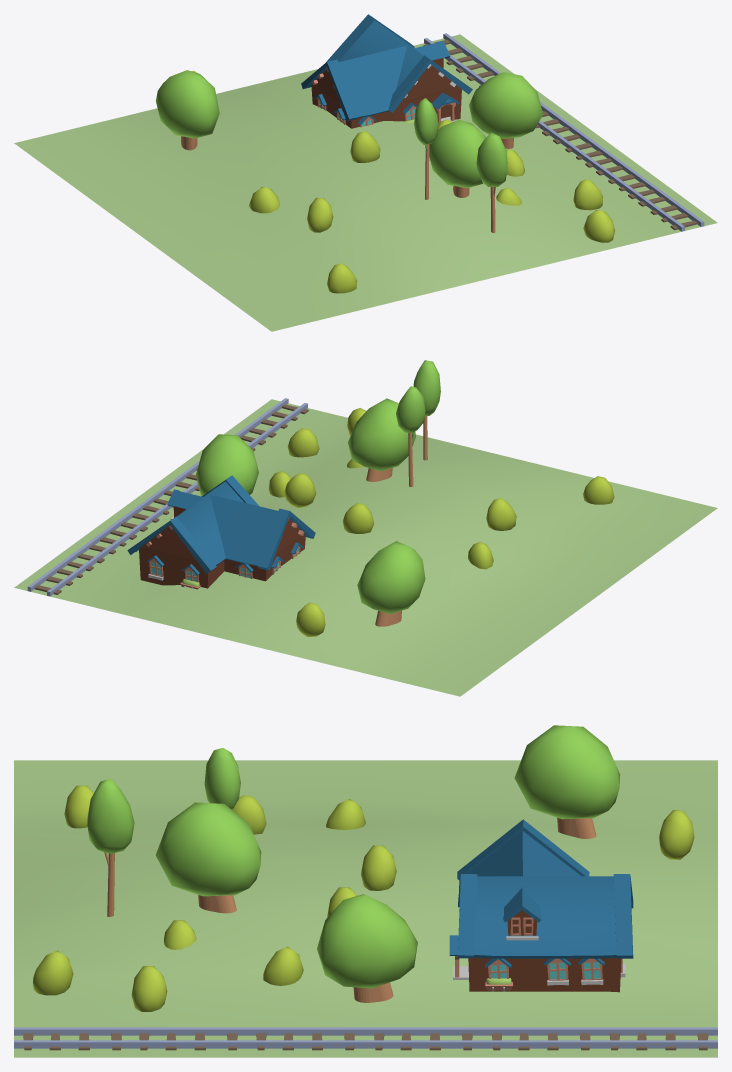
File: EnvironmentLeft.fbx
3 views of the same model, one above another, from view 1: azimuth 30°, elevation 25°; view 2: azimuth 150°, elevation 25°; view 3: azimuth 270°, elevation 25° (orthographic). The views are drawn at different scales.
Parts seen in each view (by area): view 1: Terrain, Crone, Bush, Rails, Polygon_4_7, Rails_Wood, Polygon_6, Polygon_4_6, Polygon_3_20, Colum, Polygon_3_2, Polygon_2_2 (+2 smaller); view 2: Terrain, Crone, Bush, Rails, Polygon_4_7, Polygon_6, Rails_Wood, Polygon_2_2, Colum, Polygon_4_6, Polygon_7_4, Polygon_3_2 (+1 smaller); view 3: Terrain, Crone, Rails, Bush, Polygon_6, Polygon_2_2, Rails_Wood, Polygon_4_7, Colum, Polygon_7_4, Polygon_3_20, Polygon_4_6.
Part boxes in pixels (x1,y1,x2,y2): Terrain: (14,34,717,331); Crone: (156,70,542,188); Bush: (191,70,615,293); Rails: (424,33,704,231); Polygon_4_7: (339,45,406,117); Rails_Wood: (423,39,697,230); Polygon_6: (338,20,423,89); Polygon_4_6: (301,59,359,121); Polygon_3_20: (388,55,472,112); Colum: (181,136,513,232); Polygon_3_2: (311,84,448,128); Polygon_2_2: (393,86,461,121); Terrain: (14,399,717,696); Crone: (196,360,440,614); Bush: (268,408,614,636); Rails: (27,398,307,596); Polygon_4_7: (210,494,278,565); Polygon_6: (135,481,243,565); Rails_Wood: (34,404,308,594); Polygon_2_2: (139,547,224,588); Colum: (366,415,427,626); Polygon_4_6: (257,508,315,570); Polygon_7_4: (127,516,216,573); Polygon_3_2: (224,534,305,581); Terrain: (14,760,717,1057); Crone: (87,725,620,988); Rails: (14,1027,717,1048); Bush: (33,785,694,1011); Polygon_6: (474,876,616,958); Polygon_2_2: (468,957,621,992); Rails_Wood: (23,1033,708,1050); Polygon_4_7: (459,830,580,890); Colum: (104,817,596,1002); Polygon_7_4: (613,874,633,958); Polygon_3_20: (457,874,477,958); Polygon_4_6: (457,819,589,879).
Bounding box in the file's own units: 3000 × 881 × 3000.
